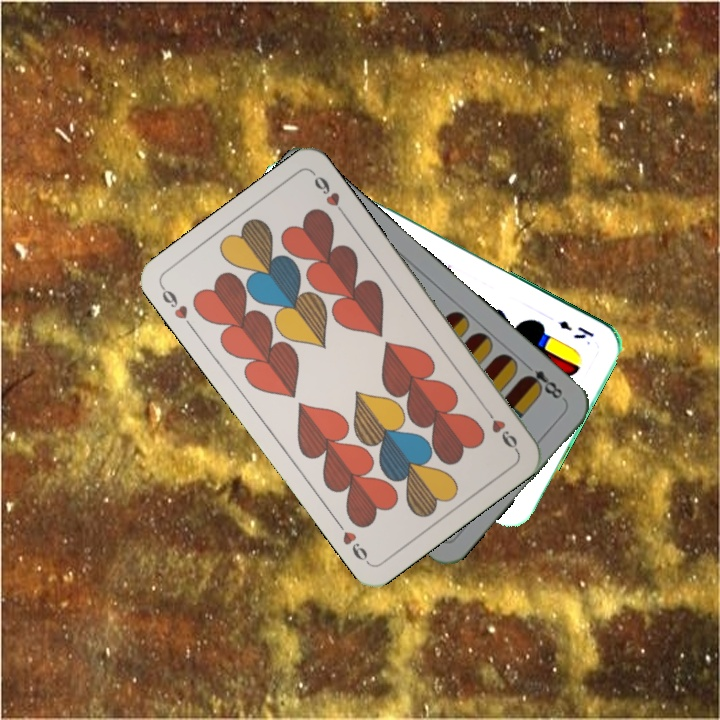E8: (519, 359, 568, 404)
EK: (555, 316, 597, 342)
H9: (157, 282, 197, 333), (480, 404, 520, 454)
